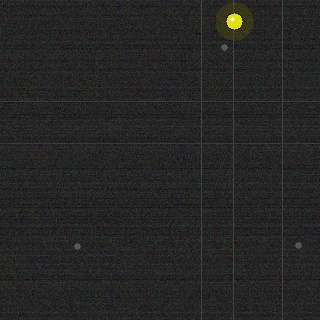yellow_warning: (224, 11, 244, 31)
